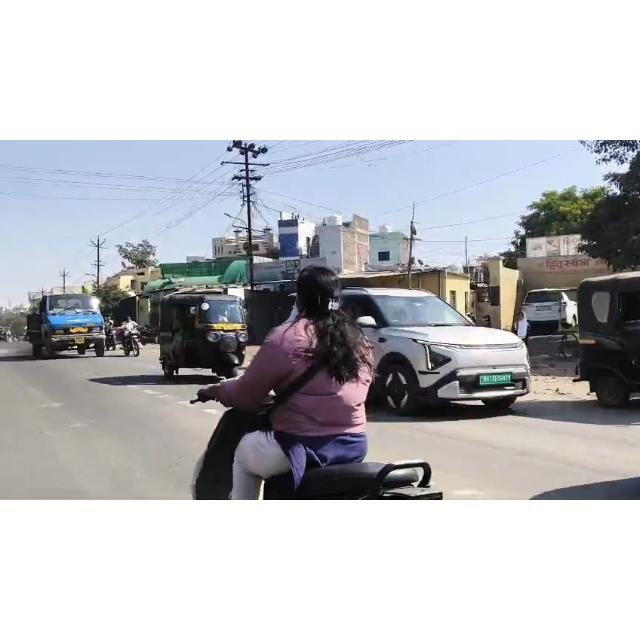auto: (159, 292, 273, 386), (574, 277, 640, 407)
car: (294, 279, 543, 417)
truck: (26, 291, 122, 358)
